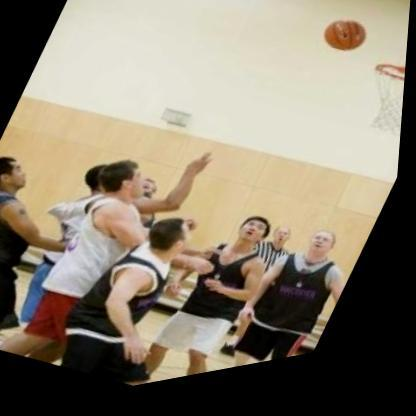basketball: (316, 17, 378, 79)
